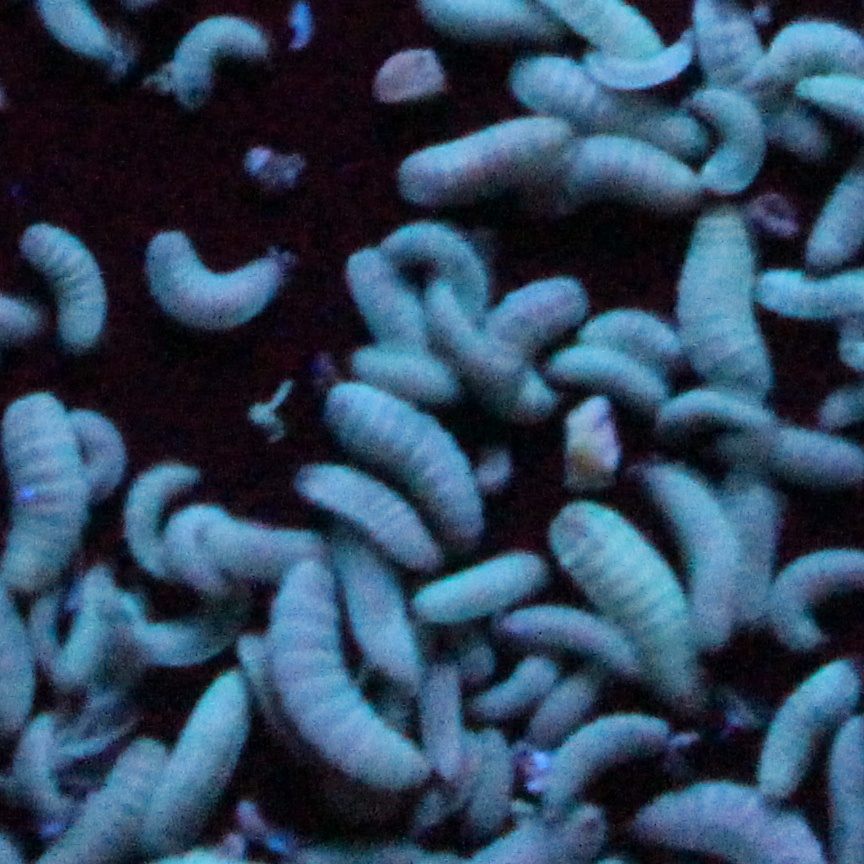larve: (562, 509, 687, 694), (338, 401, 469, 532), (291, 581, 379, 773), (690, 222, 776, 391), (332, 544, 440, 676), (164, 678, 237, 846), (520, 70, 682, 142), (766, 671, 852, 800), (407, 127, 561, 196), (310, 473, 435, 555), (666, 485, 730, 642), (156, 239, 276, 322), (8, 403, 64, 568), (507, 285, 580, 408), (549, 710, 664, 788), (697, 3, 767, 130), (33, 227, 105, 344), (572, 142, 699, 208), (782, 548, 862, 637), (181, 9, 255, 99), (130, 461, 183, 586), (502, 603, 618, 660), (144, 598, 244, 664), (66, 564, 118, 681), (18, 717, 79, 812), (362, 352, 466, 406), (359, 270, 430, 342), (423, 565, 530, 612), (408, 226, 485, 291), (446, 311, 513, 385), (589, 316, 684, 367), (738, 485, 774, 619), (703, 99, 753, 191), (562, 357, 658, 404), (669, 394, 777, 434), (213, 527, 318, 566), (174, 515, 218, 590), (425, 673, 461, 764), (544, 675, 595, 737), (479, 742, 522, 815), (594, 57, 679, 89), (479, 663, 554, 699), (86, 410, 118, 481), (37, 598, 64, 661)
